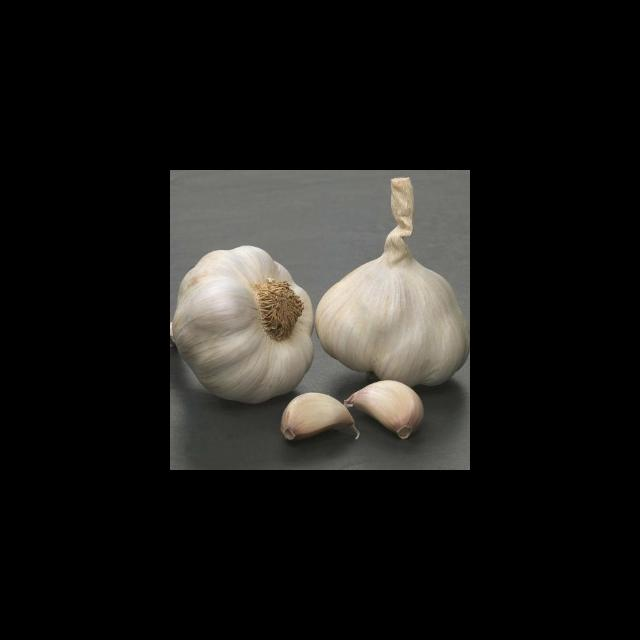garlic: (316, 174, 470, 383), (170, 242, 317, 409), (343, 380, 425, 441), (278, 388, 360, 445)
